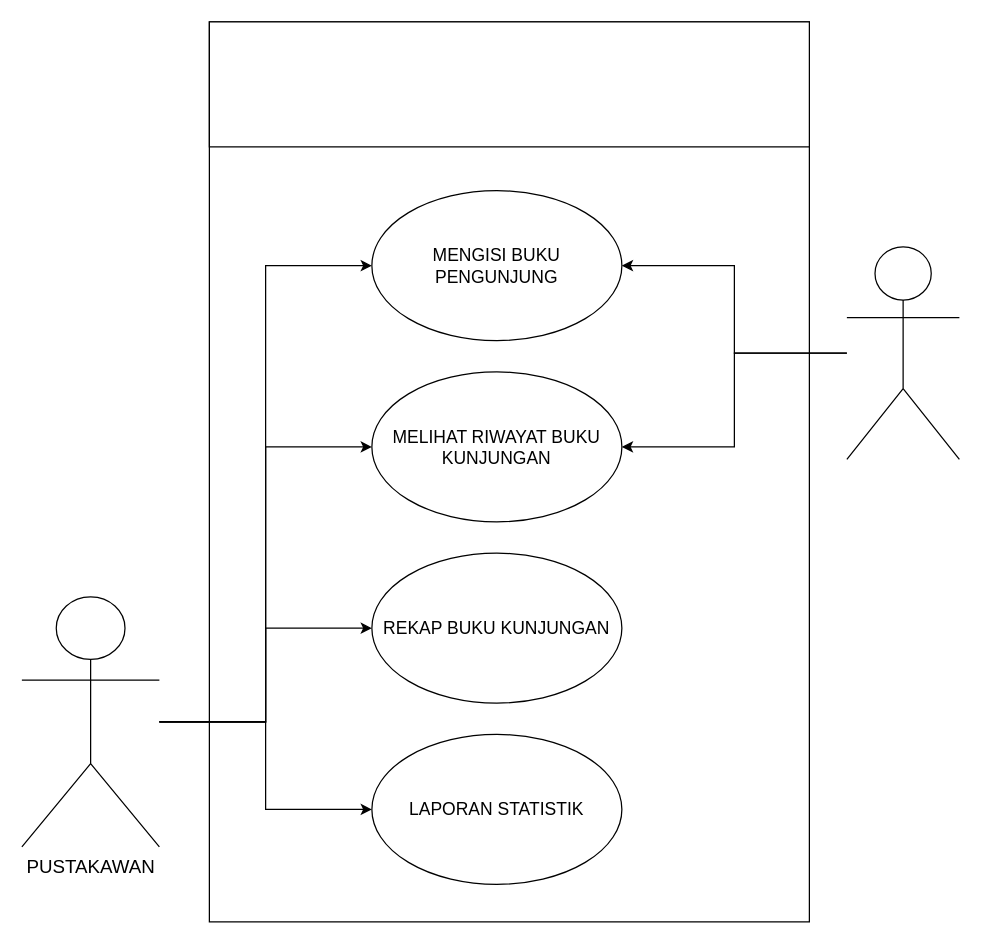
The diagram is 990 pixels wide and 944 high, and some of its shapes have lost their labels. The shapes that lost their labels are listed below. From the top down, each one's box as (x1, y1, x2, y2) in pixels, then its label:
(208, 21, 809, 147): USE CASE BUKU KUNJUNGAN PERPUSTAKAAN DIGITAL
(846, 246, 959, 459): PENGUNJUNG
